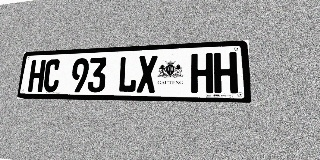3: (87, 57, 107, 92)
9: (70, 58, 90, 92)
C: (42, 59, 61, 92)
H: (214, 52, 238, 93), (191, 53, 213, 93), (28, 60, 46, 92)
L: (117, 56, 138, 93)
X: (137, 55, 158, 93)
